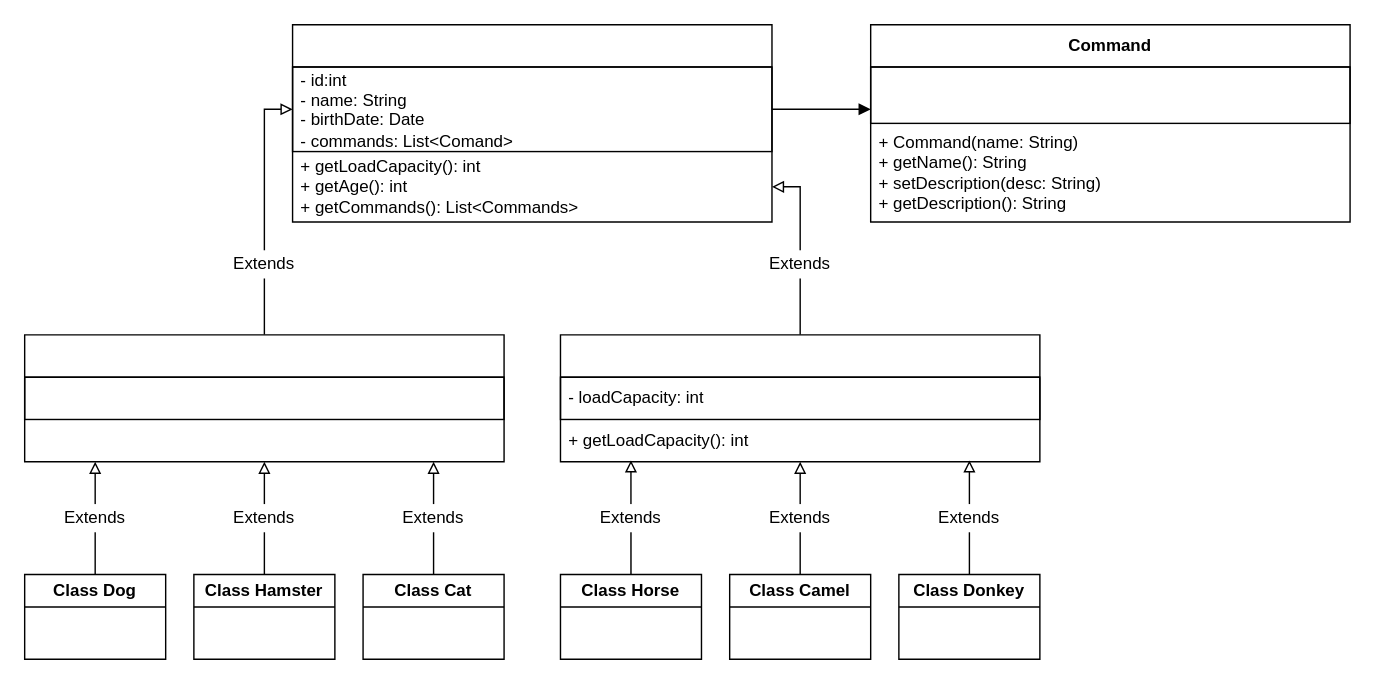
This 1375x684 diagram has some shape labels left out. Each missing label, with the box of its shape:
- name: String - description: String: (869, 66, 1350, 123)
AbstractAnimal: (291, 23, 772, 222)
AbstractPackAnimal: (559, 333, 1040, 462)
AbstractPet: (23, 333, 504, 462)
